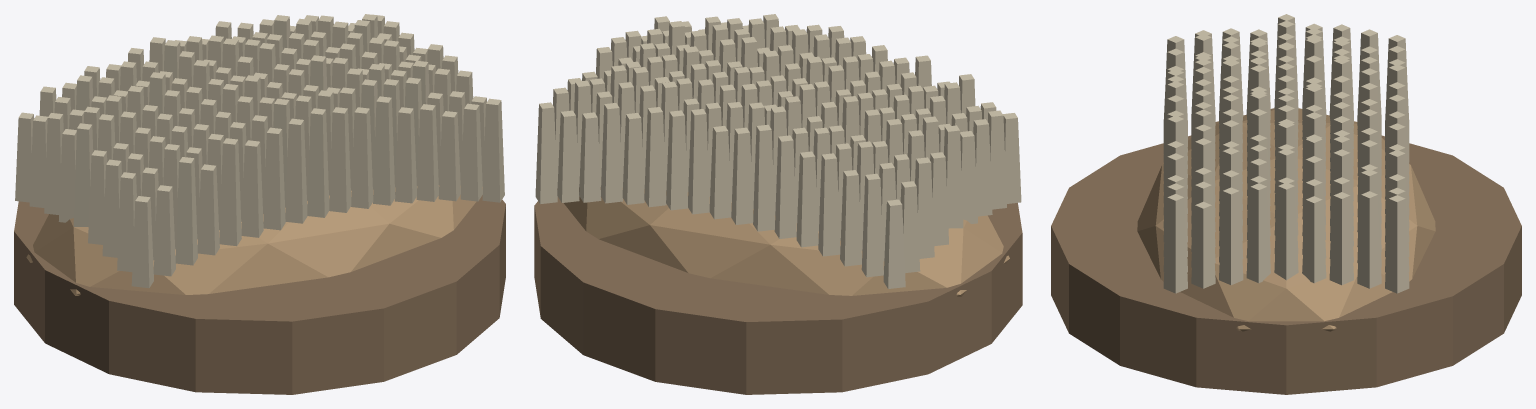
The model's file is soft_brush.glb.
3 views of the same model, side by side, from view 1: azimuth 30°, elevation 25°; view 2: azimuth 150°, elevation 25°; view 3: azimuth 270°, elevation 25° (orthographic). The views are drawn at different scales.
Parts seen in each view (by area): view 1: soft_brush; view 2: soft_brush; view 3: soft_brush.
Boxes of the visible parts, x1,y1,x2,y2 form: soft_brush: (14, 14, 505, 394); soft_brush: (534, 14, 1022, 394); soft_brush: (1051, 14, 1521, 394).
Bounding box in the file's own units: 0.1225 × 0.0678 × 0.1225.
